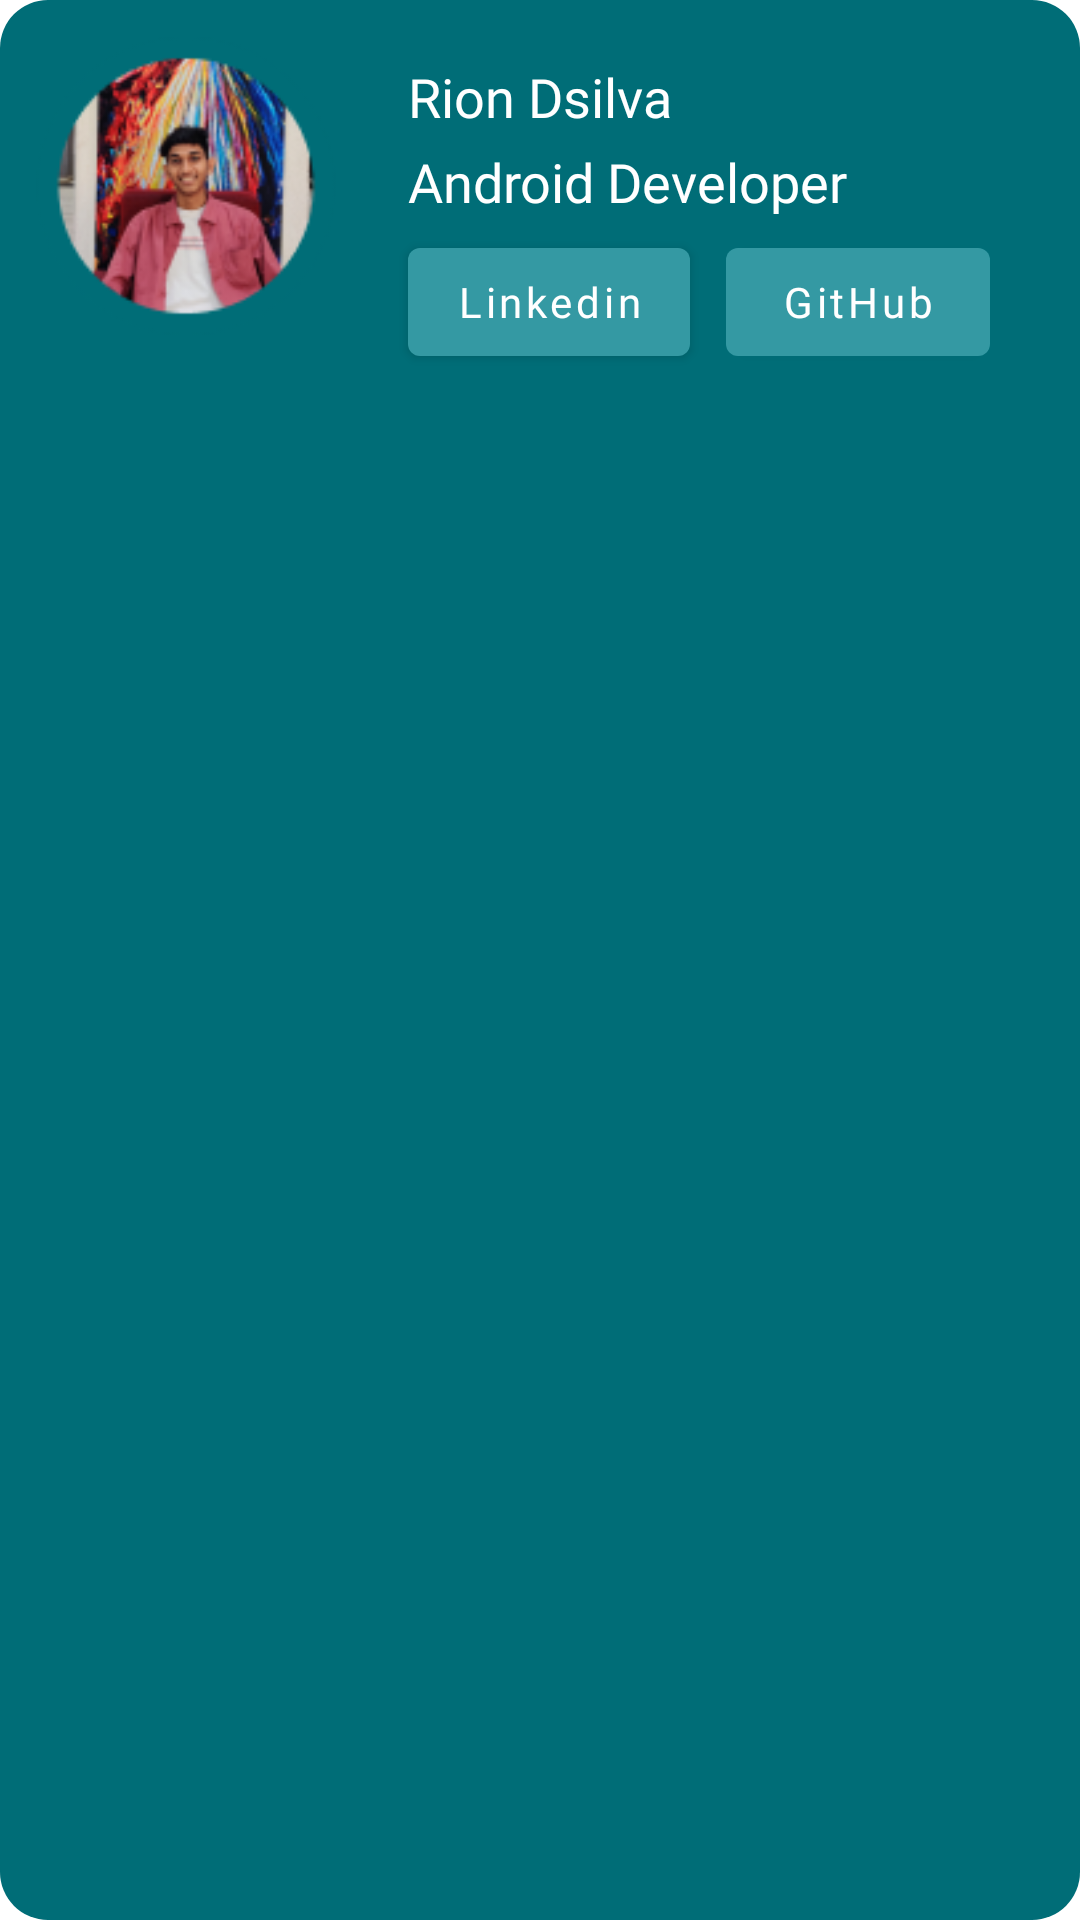

Point at icon controls on the screen. Image size 1080w x 1920h, points as (x,y).
profile pic: (186,186)
